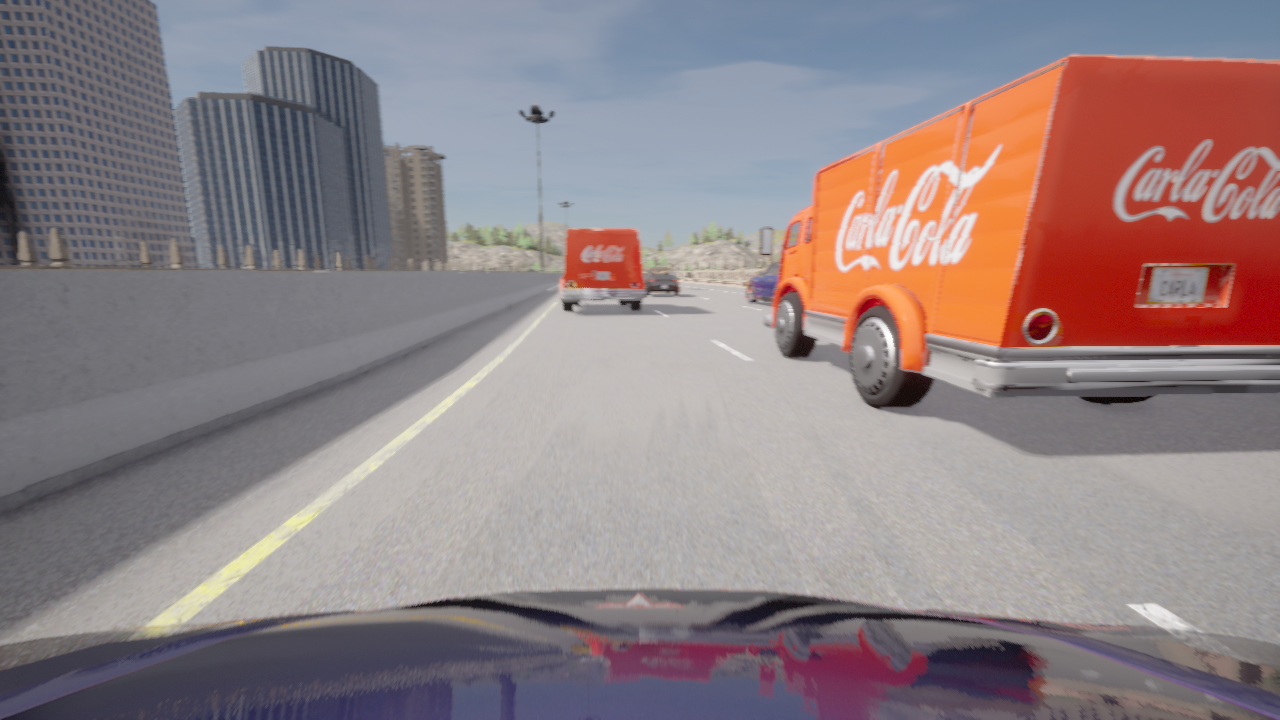cyclist: (759, 55, 1279, 407), (0, 588, 1279, 719), (560, 229, 646, 312), (747, 263, 779, 303), (643, 268, 679, 296)
